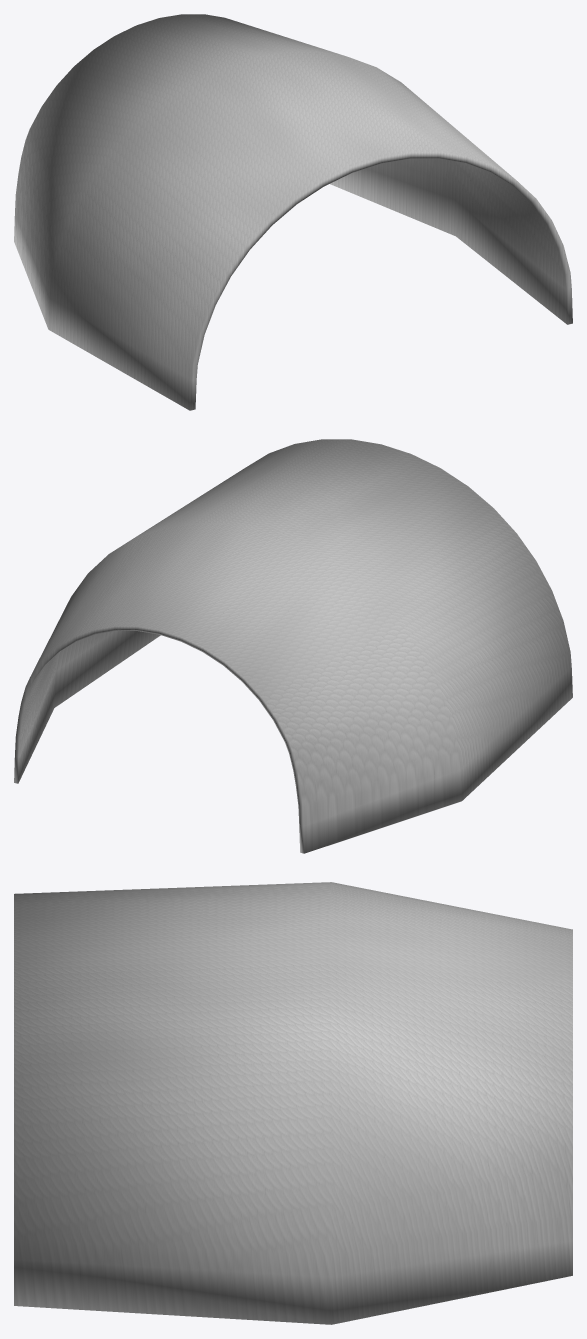
File: Cloth_OnlyPenis.obj
The picture shows the model from 3 angles, top to bottom: view 1: azimuth 30°, elevation 25°; view 2: azimuth 150°, elevation 25°; view 3: azimuth 270°, elevation 25°; orthographic projection. The views are drawn at different scales.
Visible parts, largest first — view 1: Cloth_OnlyPenis; view 2: Cloth_OnlyPenis; view 3: Cloth_OnlyPenis.
Boxes of the visible parts, x1=… form: Cloth_OnlyPenis: x1=14, y1=14, x2=572, y2=410; Cloth_OnlyPenis: x1=14, y1=439, x2=572, y2=853; Cloth_OnlyPenis: x1=14, y1=882, x2=572, y2=1324.
Bounding box in the file's own units: 0.7337 × 0.3863 × 0.683.
Materials: 1 (1 with a texture image).
